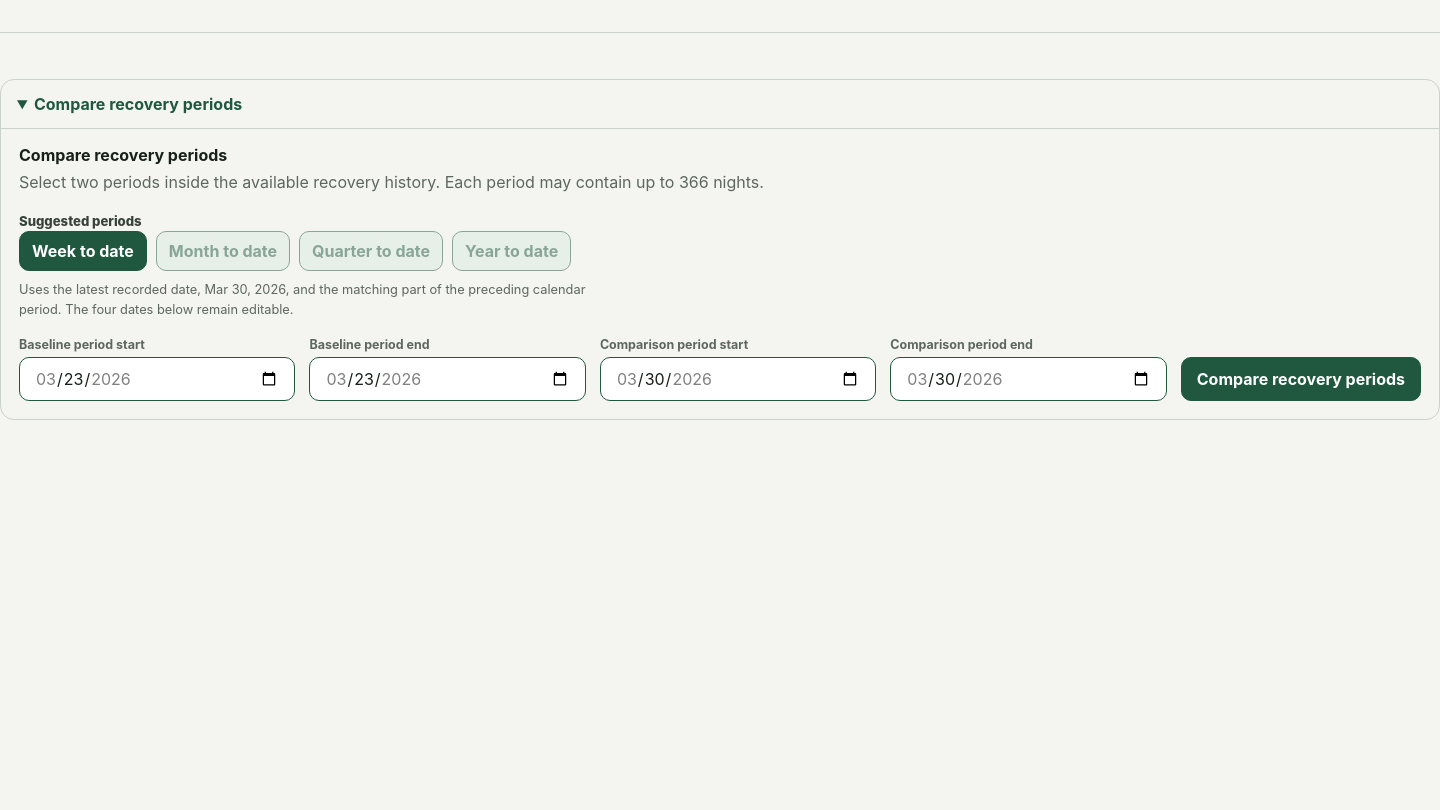
Test: RecoveryComparisonPanel › keeps origins separate and gives each one a factual interval conclusion
Click the button "Compare recovery periods". click: {"x": 1301, "y": 380}
box: [1181, 358, 1421, 402]
(page scrolled)
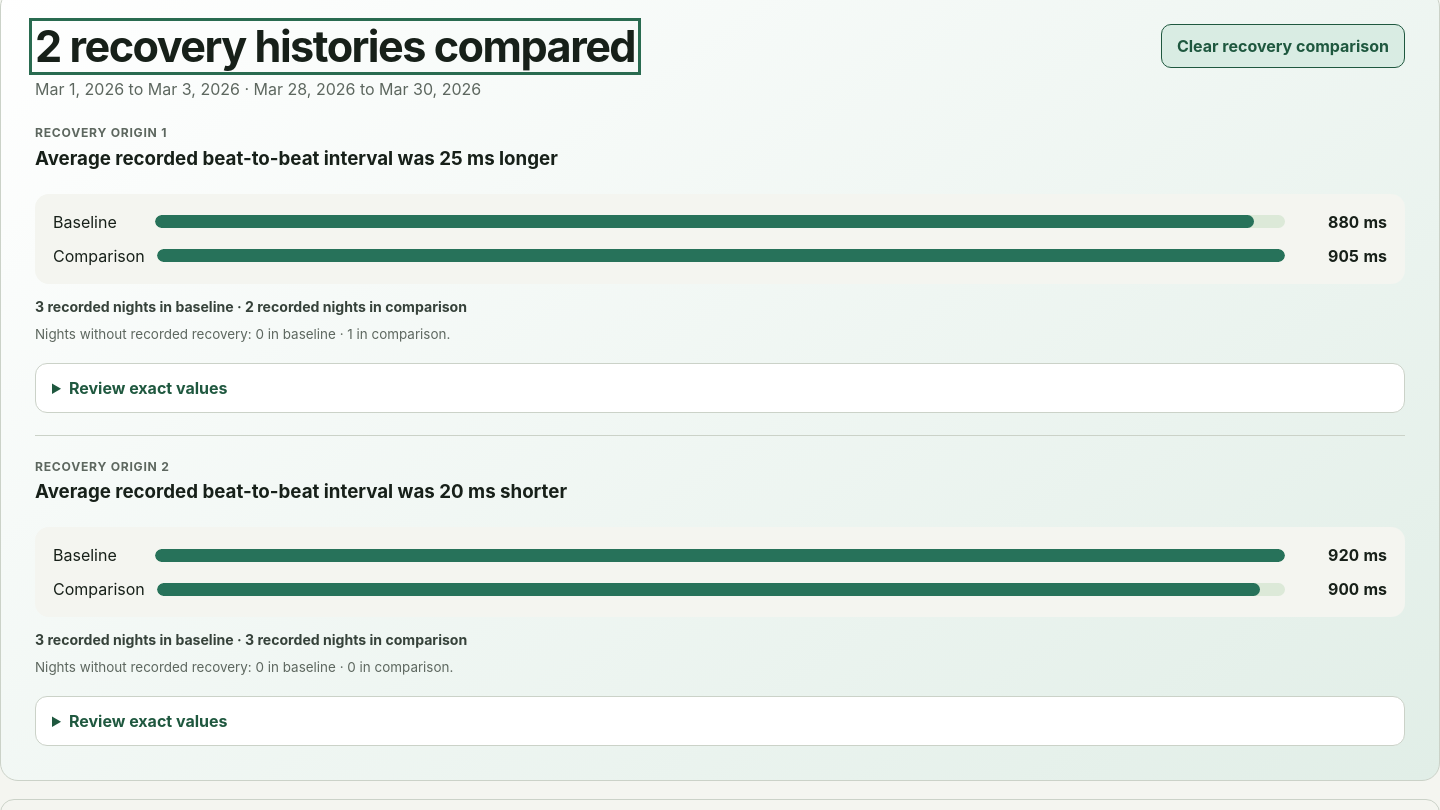
Expected: the heading "2 recovery histories compared" is shown, [35, 24, 635, 69]
Expected: the heading "Average recorded beat-to-beat interval was 25 ms longer" is shown, [35, 147, 558, 170]
Expected: the heading "Average recorded beat-to-beat interval was 20 ms shorter" is shown, [35, 480, 567, 504]
